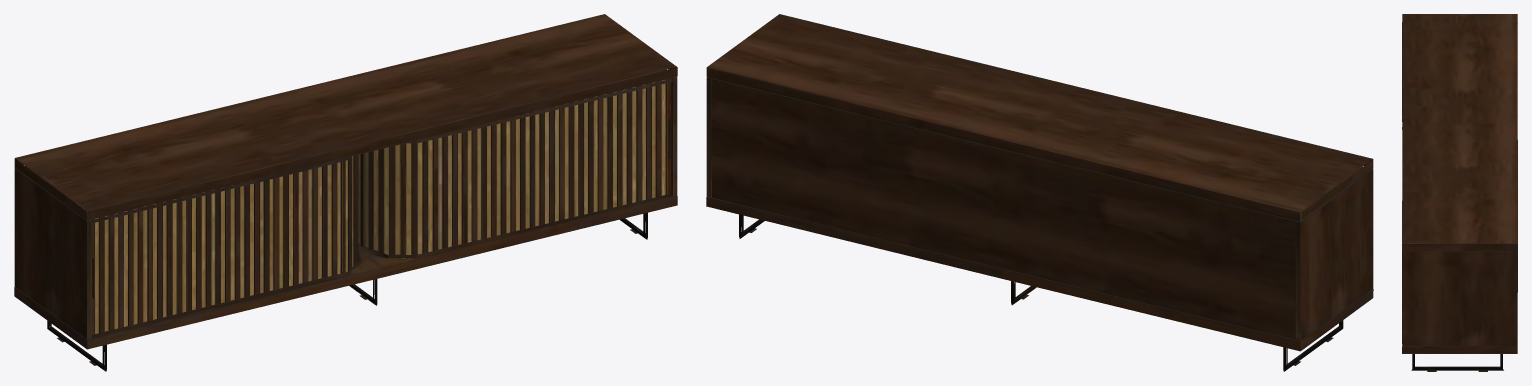
Rendered from sideboard-balanced-cc2e1d5f3c.glb.
3 views of the same model, side by side, from view 1: azimuth 30°, elevation 25°; view 2: azimuth 150°, elevation 25°; view 3: azimuth 270°, elevation 25° (orthographic). The views are drawn at different scales.
Parts seen in each view (by area): view 1: modern_wooden_cabinet_body; view 2: modern_wooden_cabinet_body; view 3: modern_wooden_cabinet_body.
Part boxes in pixels (x1,y1,x2,y2): modern_wooden_cabinet_body: [14, 14, 677, 371]; modern_wooden_cabinet_body: [706, 14, 1373, 371]; modern_wooden_cabinet_body: [1402, 14, 1517, 371].
Bounding box in the file's own units: 2.44 × 0.6801 × 0.5204.
1 material, 1 textured.
